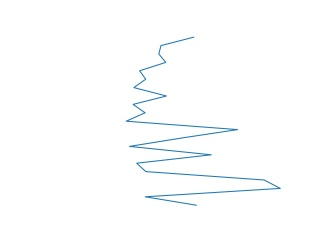crevasseRiverBedLagDeposit: (121, 33, 284, 210)
